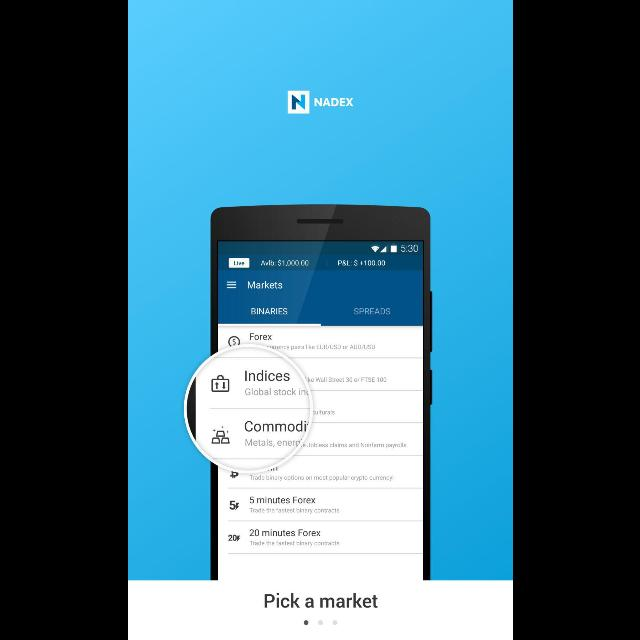image: (180, 204, 432, 580), (287, 90, 309, 114)
pageindicator: (303, 620, 337, 626)
text: (263, 592, 377, 608), (314, 98, 352, 106)
